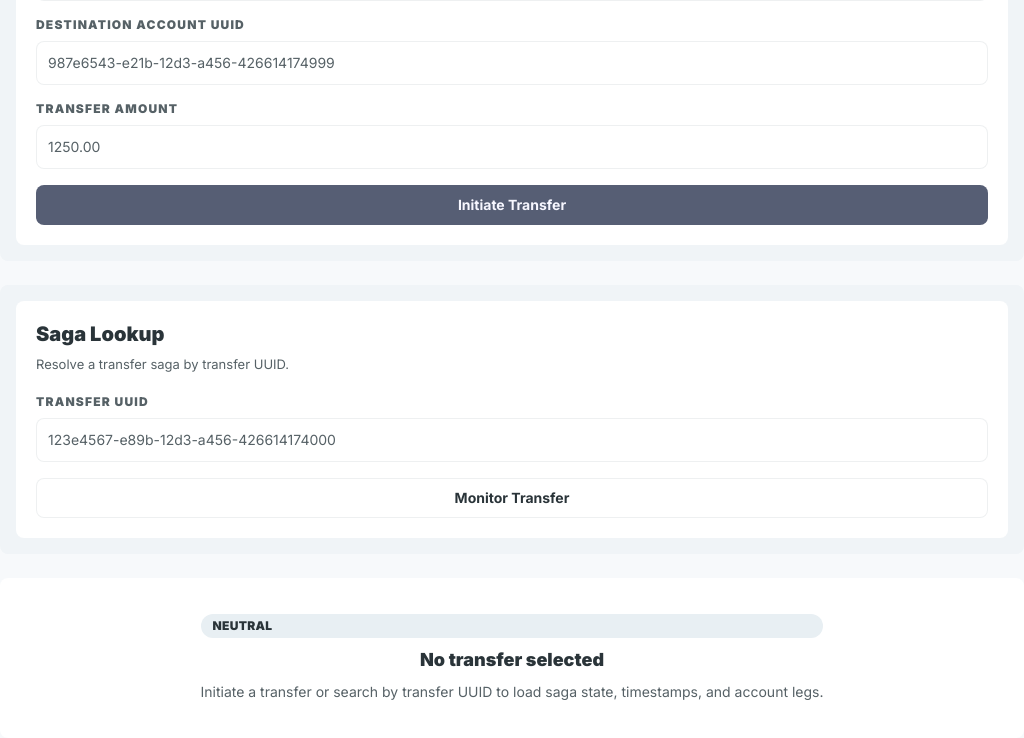
Test: TransferOperationsPage › surfaces lookup errors from the transfer gateway
The width and height of the screenshot is (1024, 738).
(page scrolled)
Type "223e4567-e89b-12d3-a456-426614174111" into the field labelled "Transfer UUID" at (512, 440), box [36,418,988,462]
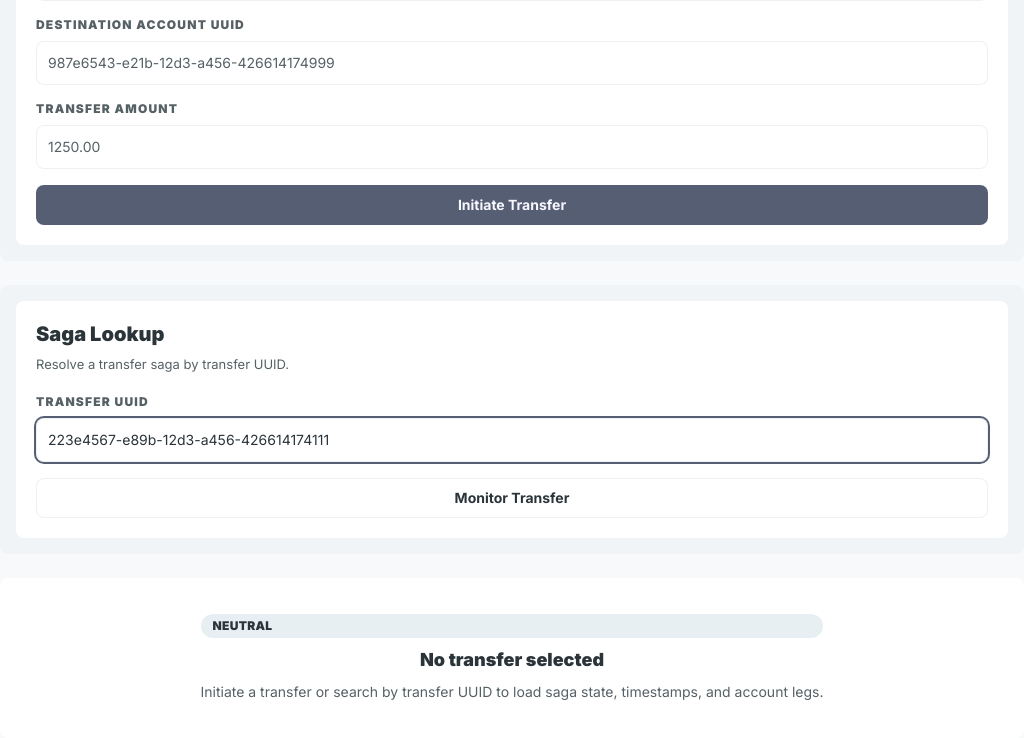
Click the button "Monitor Transfer" at (512, 498), box [36,478,988,518]
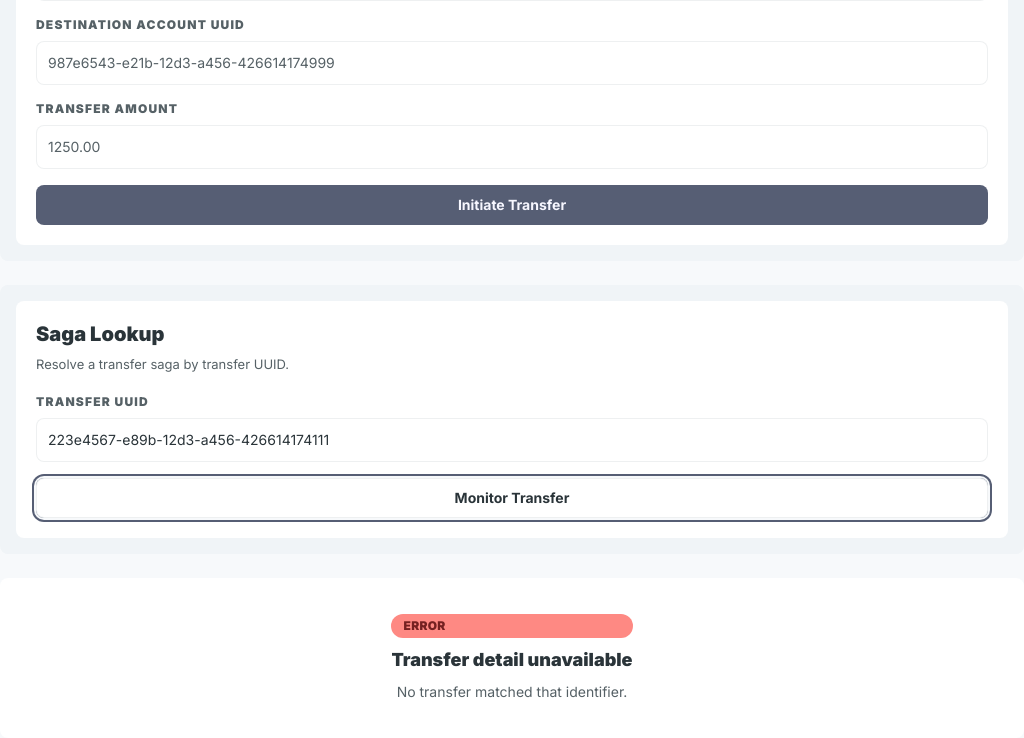
Check: the heading "Transfer detail unavailable" is shown, box [392,646,632,674]
Check: the text "No transfer matched that identifier." is shown, box [392,682,632,702]
